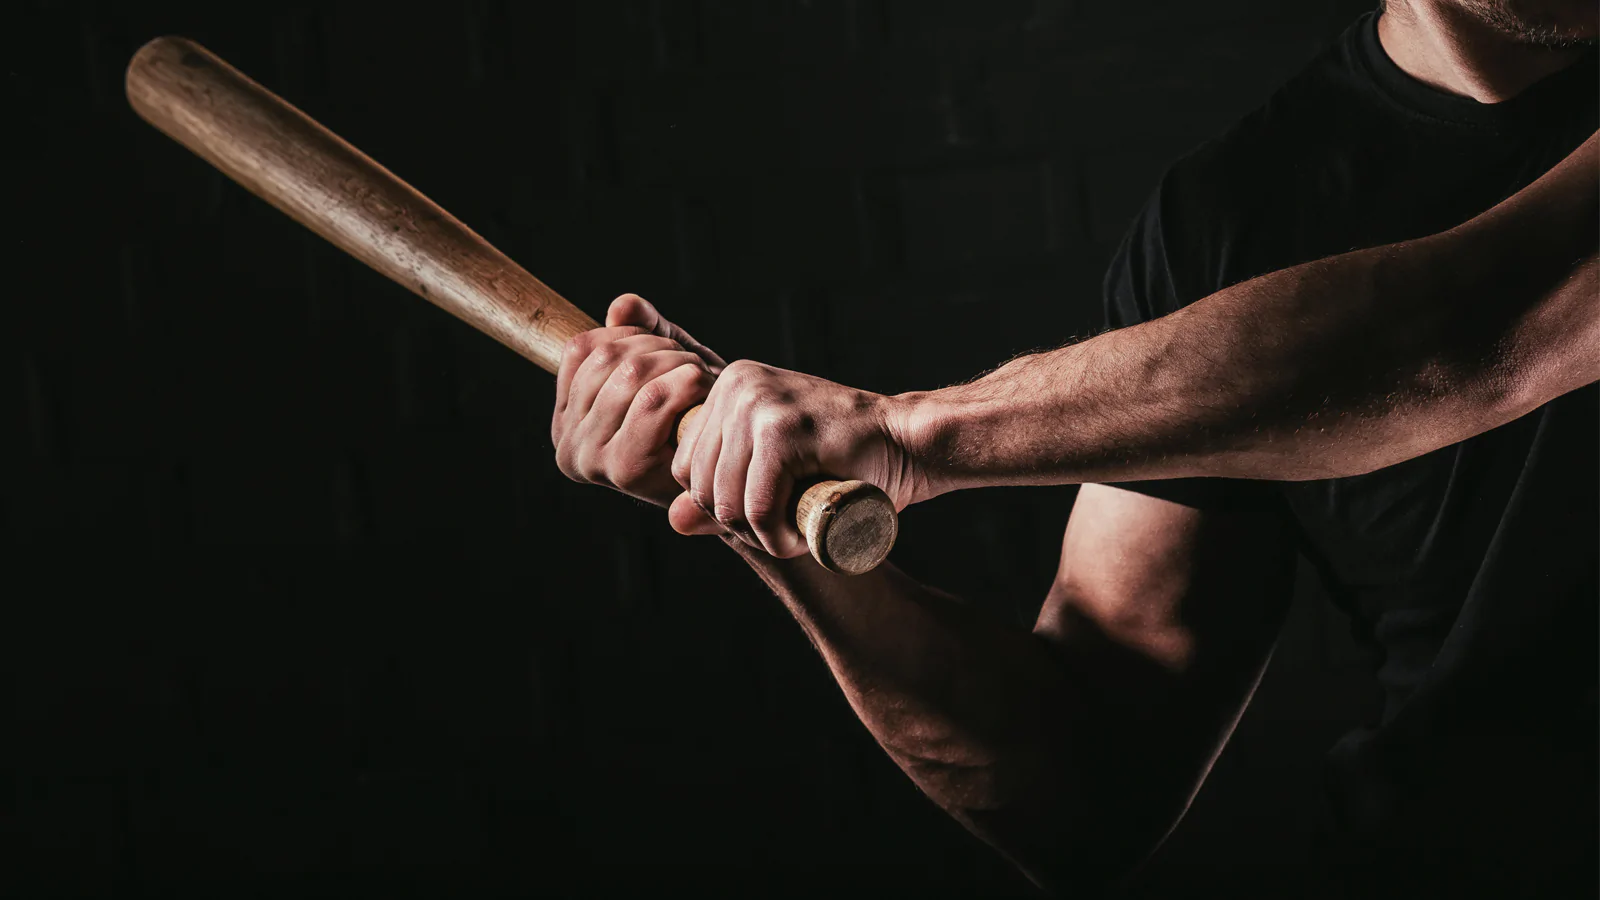bat: (66, 23, 956, 627)
